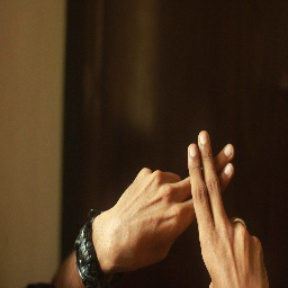F: (166, 121, 250, 247)
